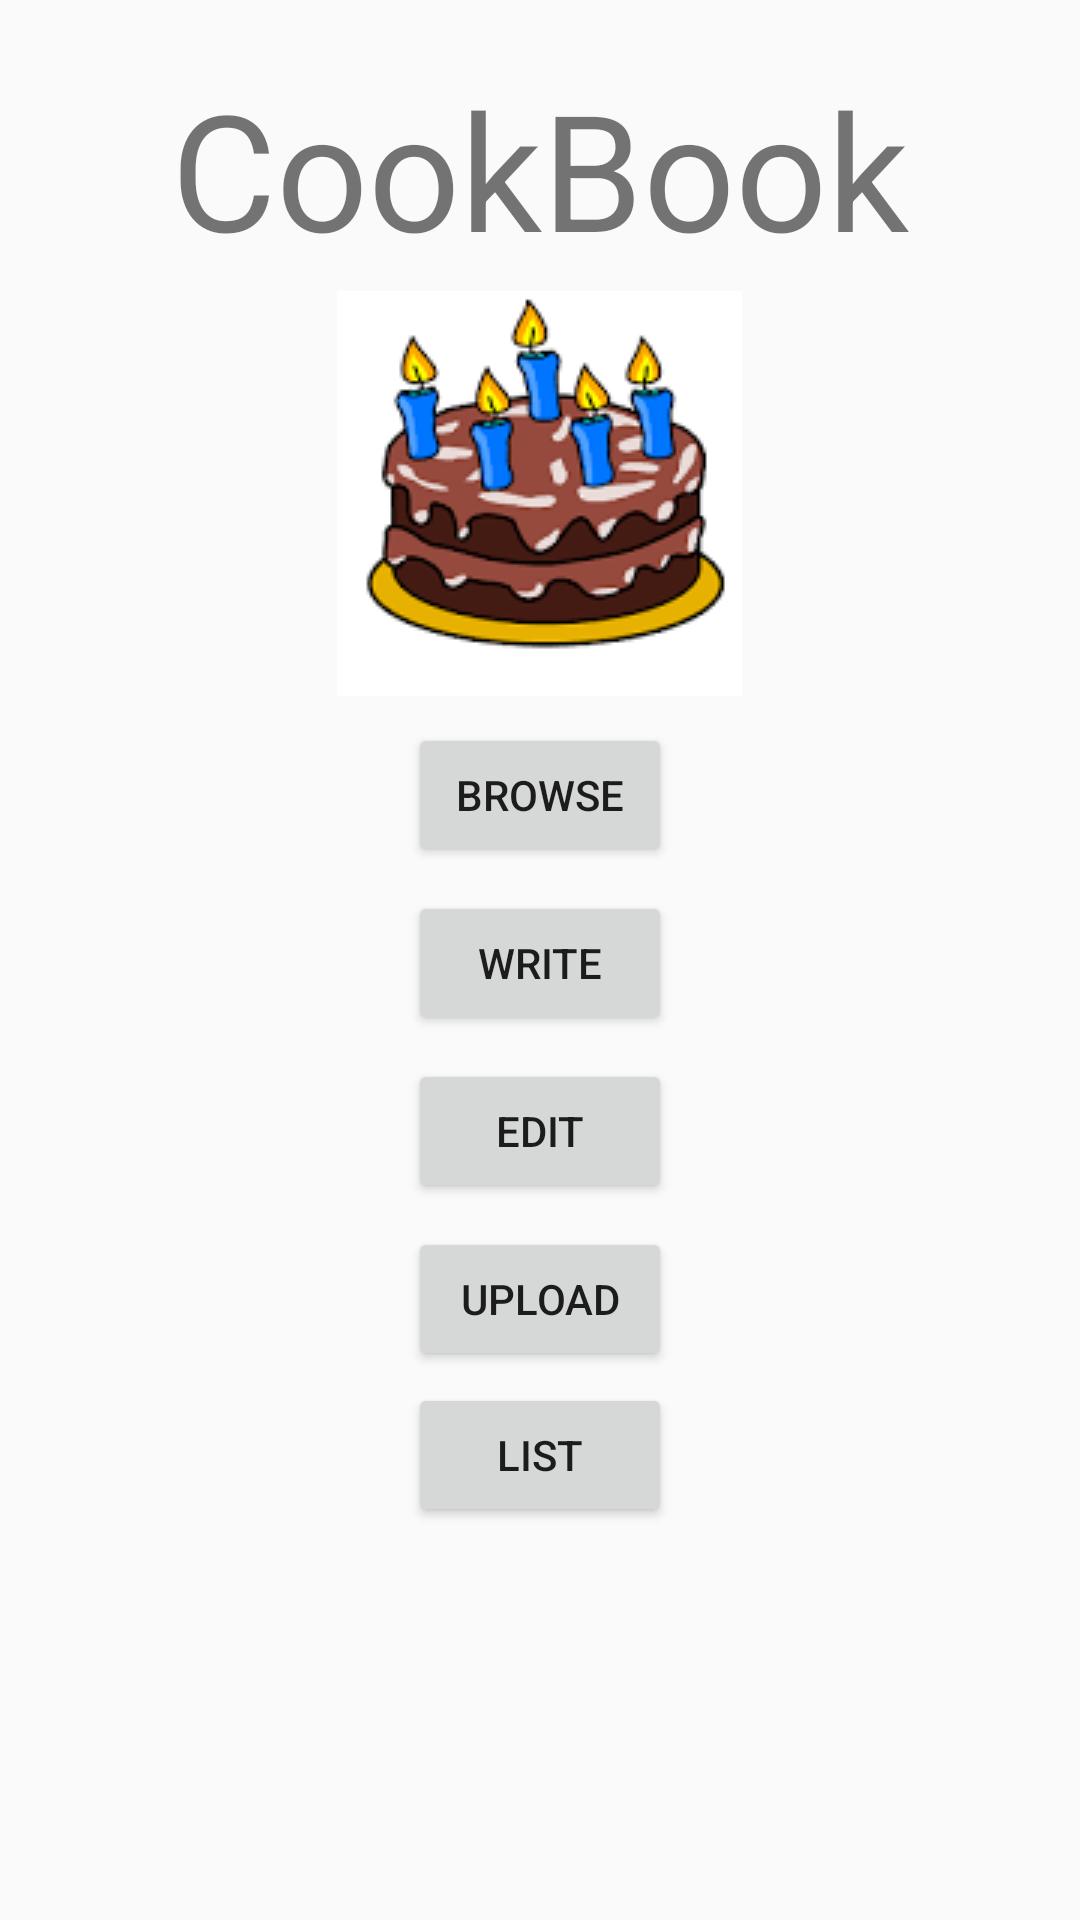

Screen size 1080×1920. Icon name, then its center in pixels as [x,y]:
cake clipart: [545,474]
